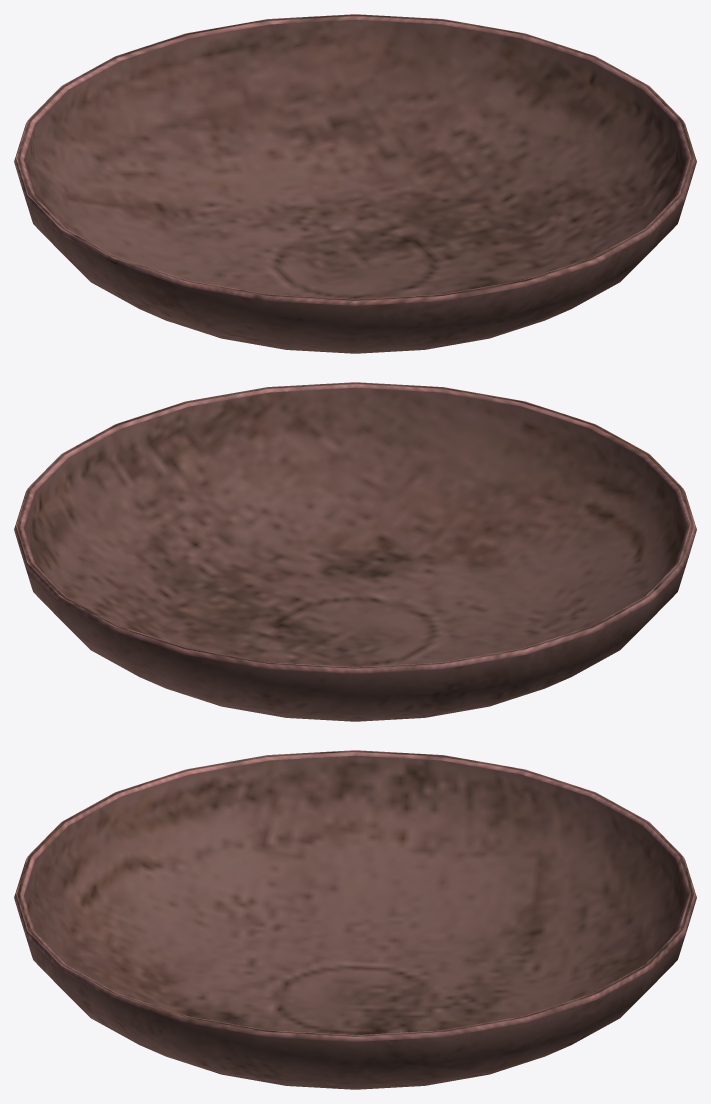
Rendered from plasticdish01b.obj.
3 views of the same model, one above another, from view 1: azimuth 30°, elevation 25°; view 2: azimuth 150°, elevation 25°; view 3: azimuth 270°, elevation 25° (orthographic).
Parts seen in each view (by area): view 1: LODGroup_1_MainMesh_1_Submesh_1; view 2: LODGroup_1_MainMesh_1_Submesh_1; view 3: LODGroup_1_MainMesh_1_Submesh_1.
Part boxes in pixels (x1,y1,x2,y2): LODGroup_1_MainMesh_1_Submesh_1: (14,14,696,353); LODGroup_1_MainMesh_1_Submesh_1: (14,382,696,721); LODGroup_1_MainMesh_1_Submesh_1: (14,750,696,1089).
Size of the model in its own units: 23.88 by 4.93 by 23.88.
1 material, 1 textured.
